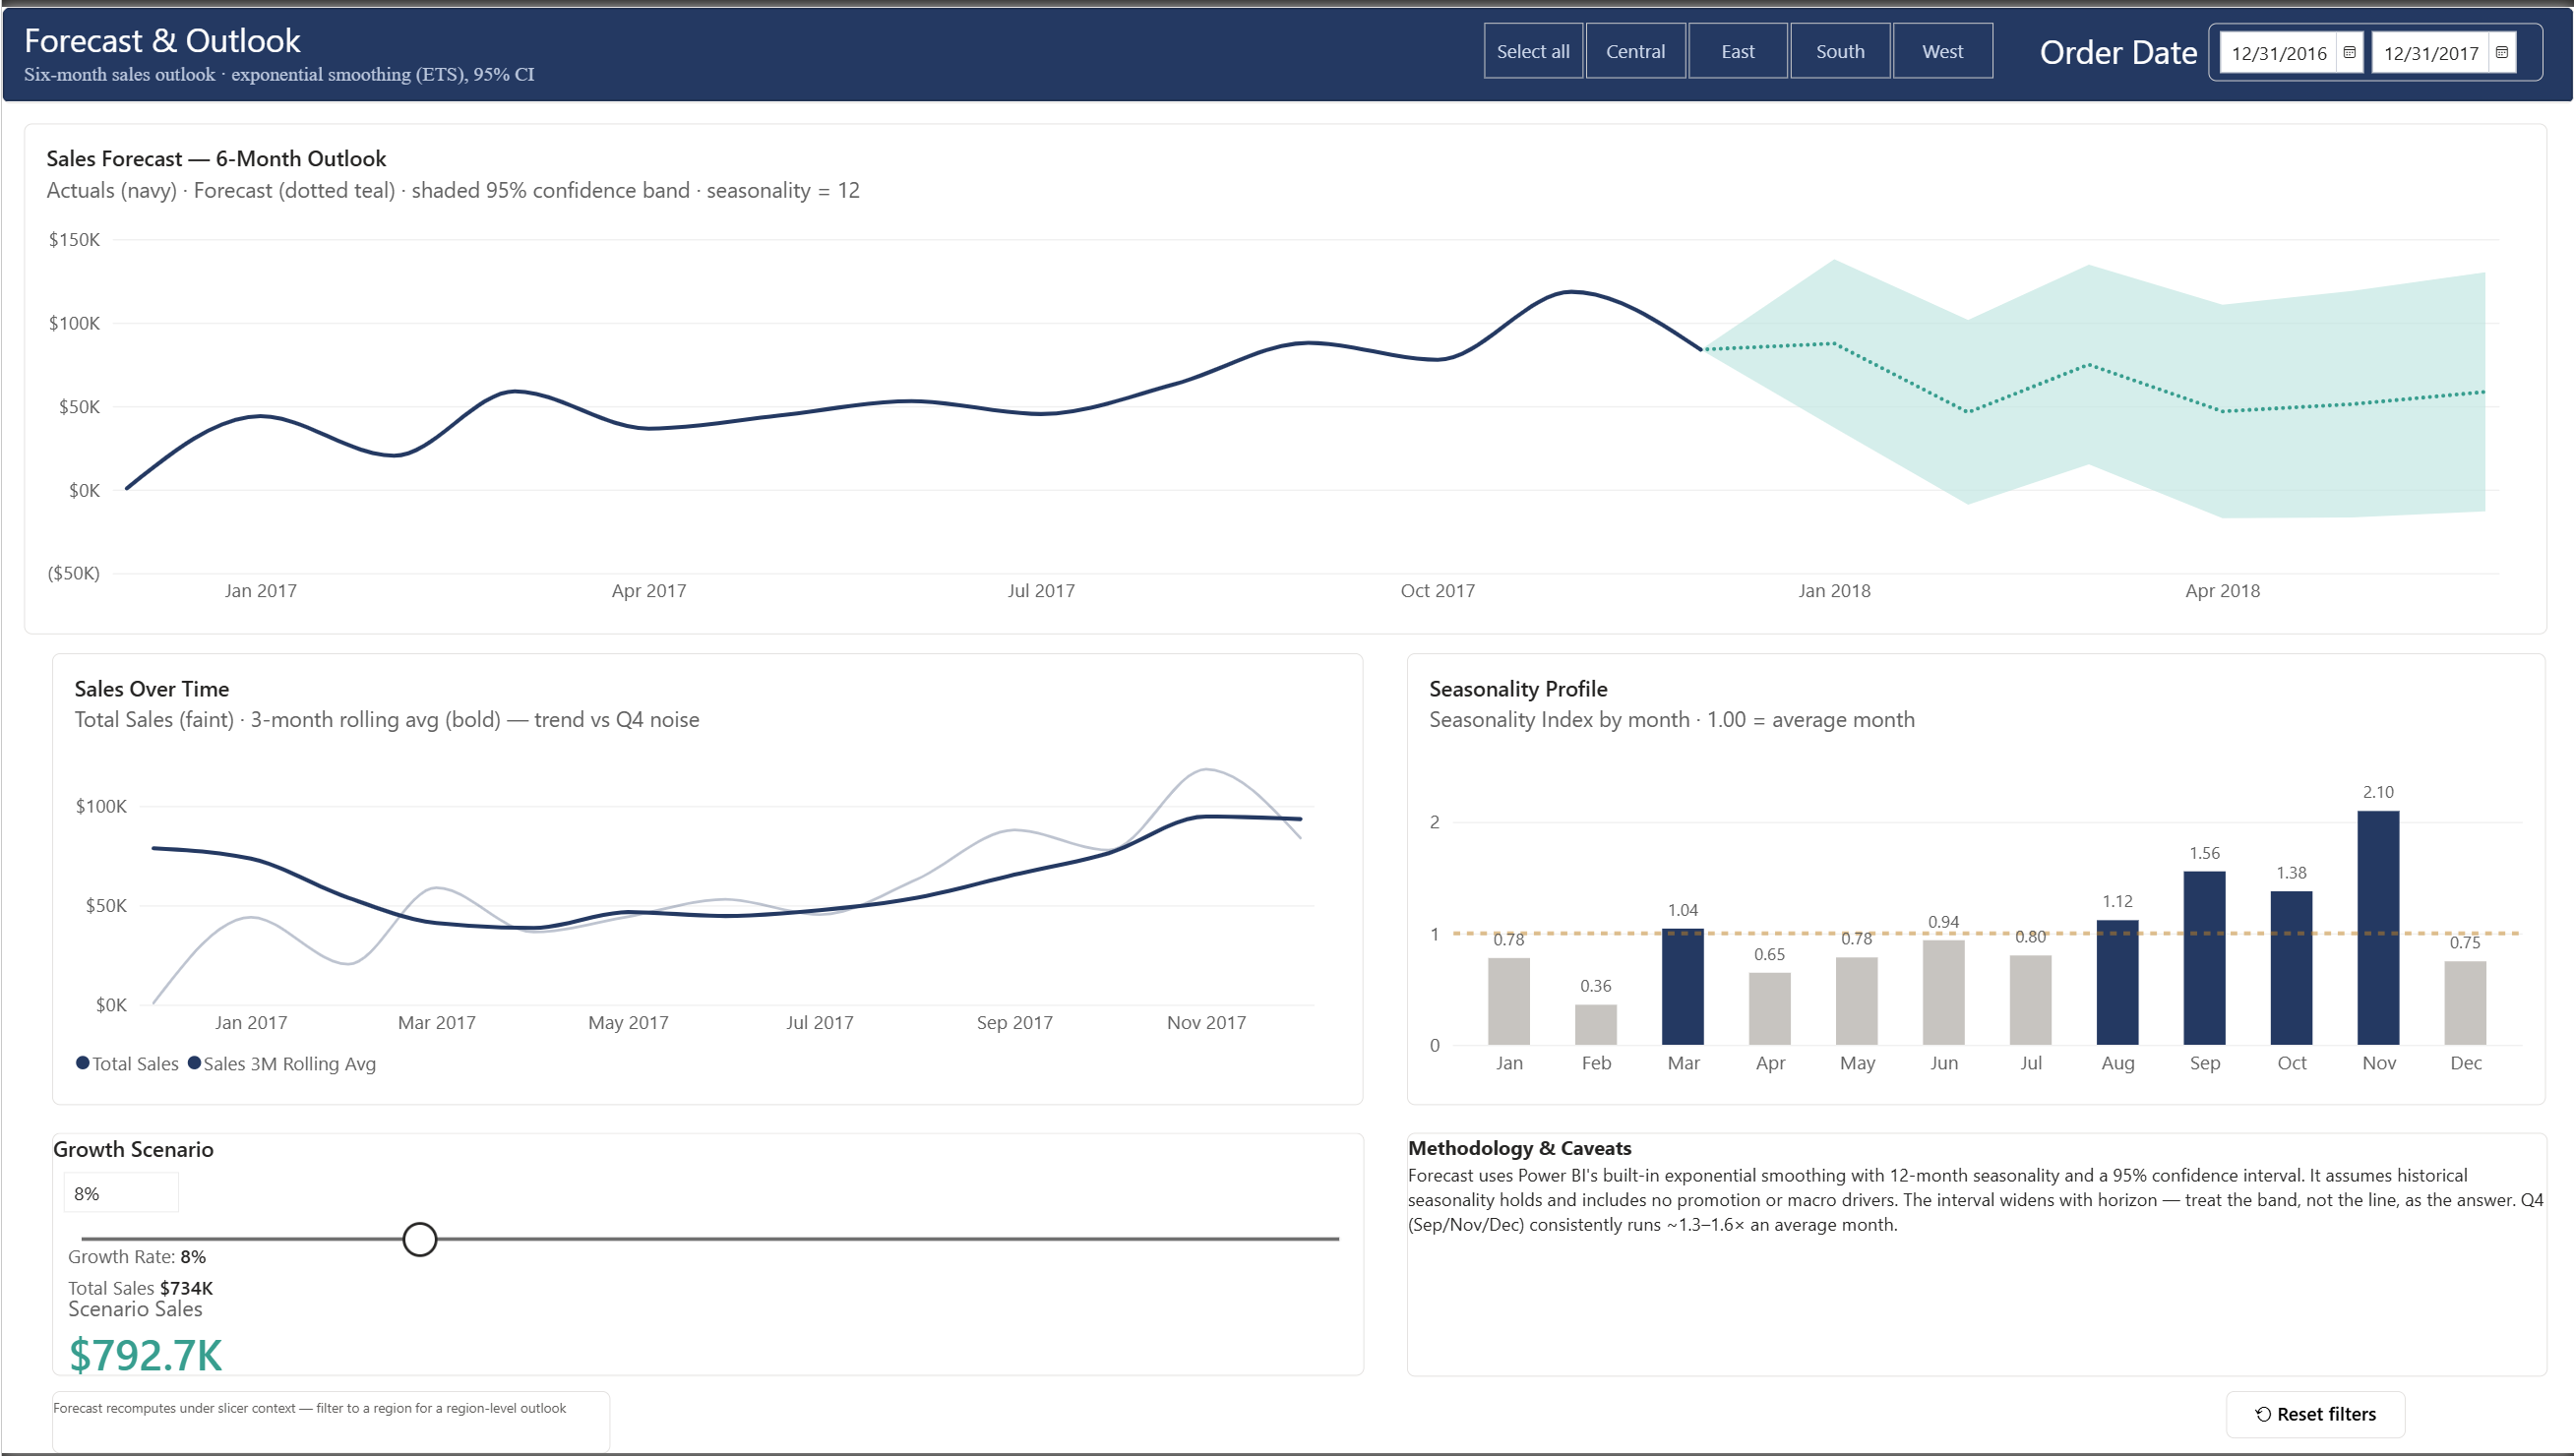

This screenshot's page, from the dashboard's own definition file:
{"tool":"powerbi","page":{"name":"Forecast & Outlook","canvas":[1920,1080],"ordinal":1},"visuals":[{"type":"shape","box":[0,0,1920,71.7],"z":0},{"type":"textbox","box":[16,8,460,56],"z":1000},{"type":"slicer","fields":{"Values":["DimGeography.Region"]},"box":[1085,10.1,420,45],"z":2000},{"type":"slicer","title":"Order Date","fields":{"Values":["DimDate.Date"]},"box":[1647,12,250.2,43.3],"z":3000},{"type":"textbox","box":[1521,16,127.5,39.7],"z":4000},{"type":"lineChart","title":"Sales Forecast — 6-Month Outlook","fields":{"Category":["DimDate.MonthStart"],"Y":["_Measures.Total Sales"]},"box":[16.3,86.8,1883.4,381],"z":5000},{"type":"clusteredColumnChart","title":"Seasonality Profile","fields":{"Category":["DimDate.Month Name"],"Y":["_Measures.Seasonality Index"]},"box":[1048.1,482.7,850.2,337.6],"z":6000},{"type":"slicer","title":"Growth Scenario","fields":{"Values":["Growth Rate 2.Growth Rate"]},"box":[38,840.7,979.6,181.4],"z":7000,"group":"g1"},{"type":"group","id":"g1","title":"Group 1","box":[38,840.7,979,181.7],"z":7000},{"type":"textbox","box":[1048.1,840.7,851.5,181.7],"z":8000},{"type":"cardVisual","fields":{"Data":["_Measures.Scenario Sales"]},"box":[38,909.2,979.6,112.9],"z":8000,"group":"g1"},{"type":"actionButton","box":[1659.7,1033.8,133.8,35.1],"z":9000},{"type":"textbox","box":[37.7,1033.8,416.9,46.8],"z":10000},{"type":"lineChart","title":"Sales Over Time ","fields":{"Category":["DimDate.MonthStart"],"Y":["_Measures.Total Sales","_Measures.Sales 3M Rolling Avg"]},"box":[38,482.7,979,337.6],"z":10001}]}

Visuals, with their boxes in screenshot pixels (x1, y1, x2, y2), scaled from the page's 1920x1080 canvas onto the 2574x1456 screenshot:
shape: x1=0 y1=0 x2=2573 y2=96
textbox: x1=22 y1=11 x2=639 y2=87
slicer - DimGeography.Region: x1=1454 y1=14 x2=2018 y2=75
"Order Date" slicer: x1=2208 y1=16 x2=2543 y2=75
textbox: x1=2039 y1=22 x2=2210 y2=75
"Sales Forecast — 6-Month Outlook" lineChart: x1=22 y1=117 x2=2546 y2=631
"Seasonality Profile" clusteredColumnChart: x1=1405 y1=650 x2=2544 y2=1106
"Growth Scenario" slicer: x1=51 y1=1133 x2=1364 y2=1378
"Group 1" group: x1=51 y1=1133 x2=1364 y2=1378
textbox: x1=1405 y1=1133 x2=2546 y2=1378
cardVisual - _Measures.Scenario Sales: x1=51 y1=1226 x2=1364 y2=1378
actionButton: x1=2225 y1=1394 x2=2405 y2=1441
textbox: x1=50 y1=1394 x2=609 y2=1455
"Sales Over Time " lineChart: x1=51 y1=650 x2=1364 y2=1106
